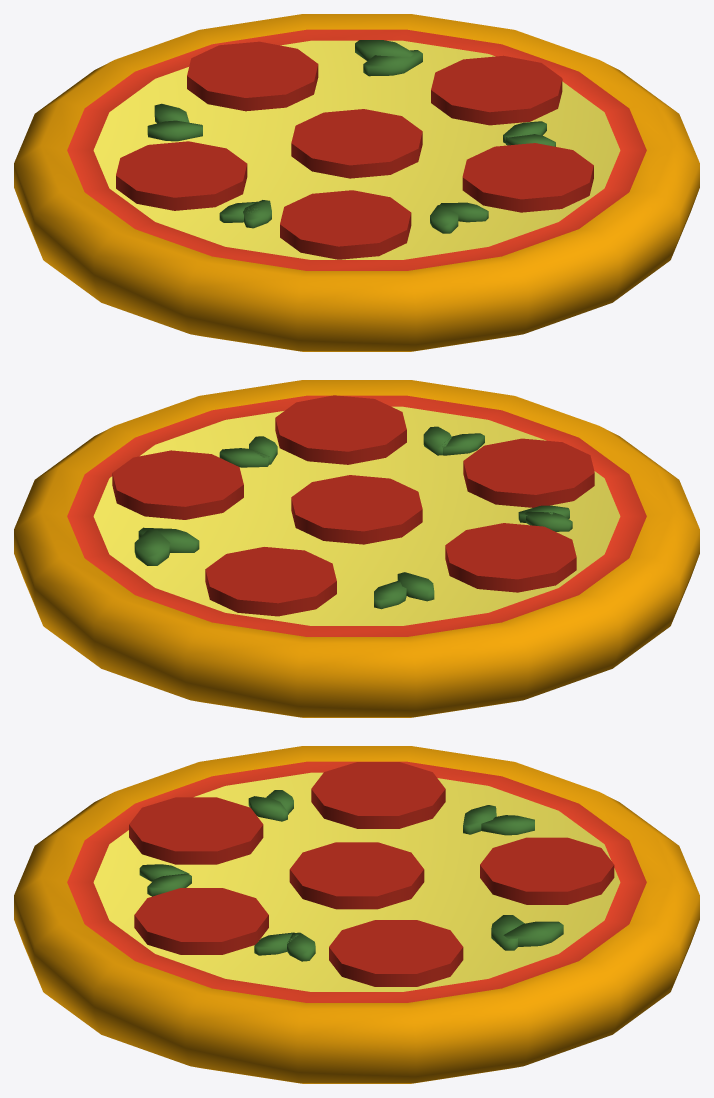
The model's file is SM_pizza.fbx.
3 views of the same model, one above another, from view 1: azimuth 30°, elevation 25°; view 2: azimuth 150°, elevation 25°; view 3: azimuth 270°, elevation 25° (orthographic).
Parts seen in each view (by area): view 1: SM_pizza; view 2: SM_pizza; view 3: SM_pizza.
Boxes of the visible parts, bbox=[...] form: SM_pizza: bbox=[14, 14, 699, 351]; SM_pizza: bbox=[14, 380, 699, 717]; SM_pizza: bbox=[14, 746, 699, 1083].
Bounding box in the file's own units: 0.5079 × 0.5157 × 0.0705.
